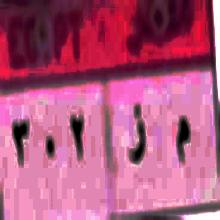0: (42, 119, 58, 172)
2: (62, 97, 92, 171)
3: (5, 108, 34, 170)
meem: (169, 106, 194, 175)
zay: (121, 88, 148, 180)
